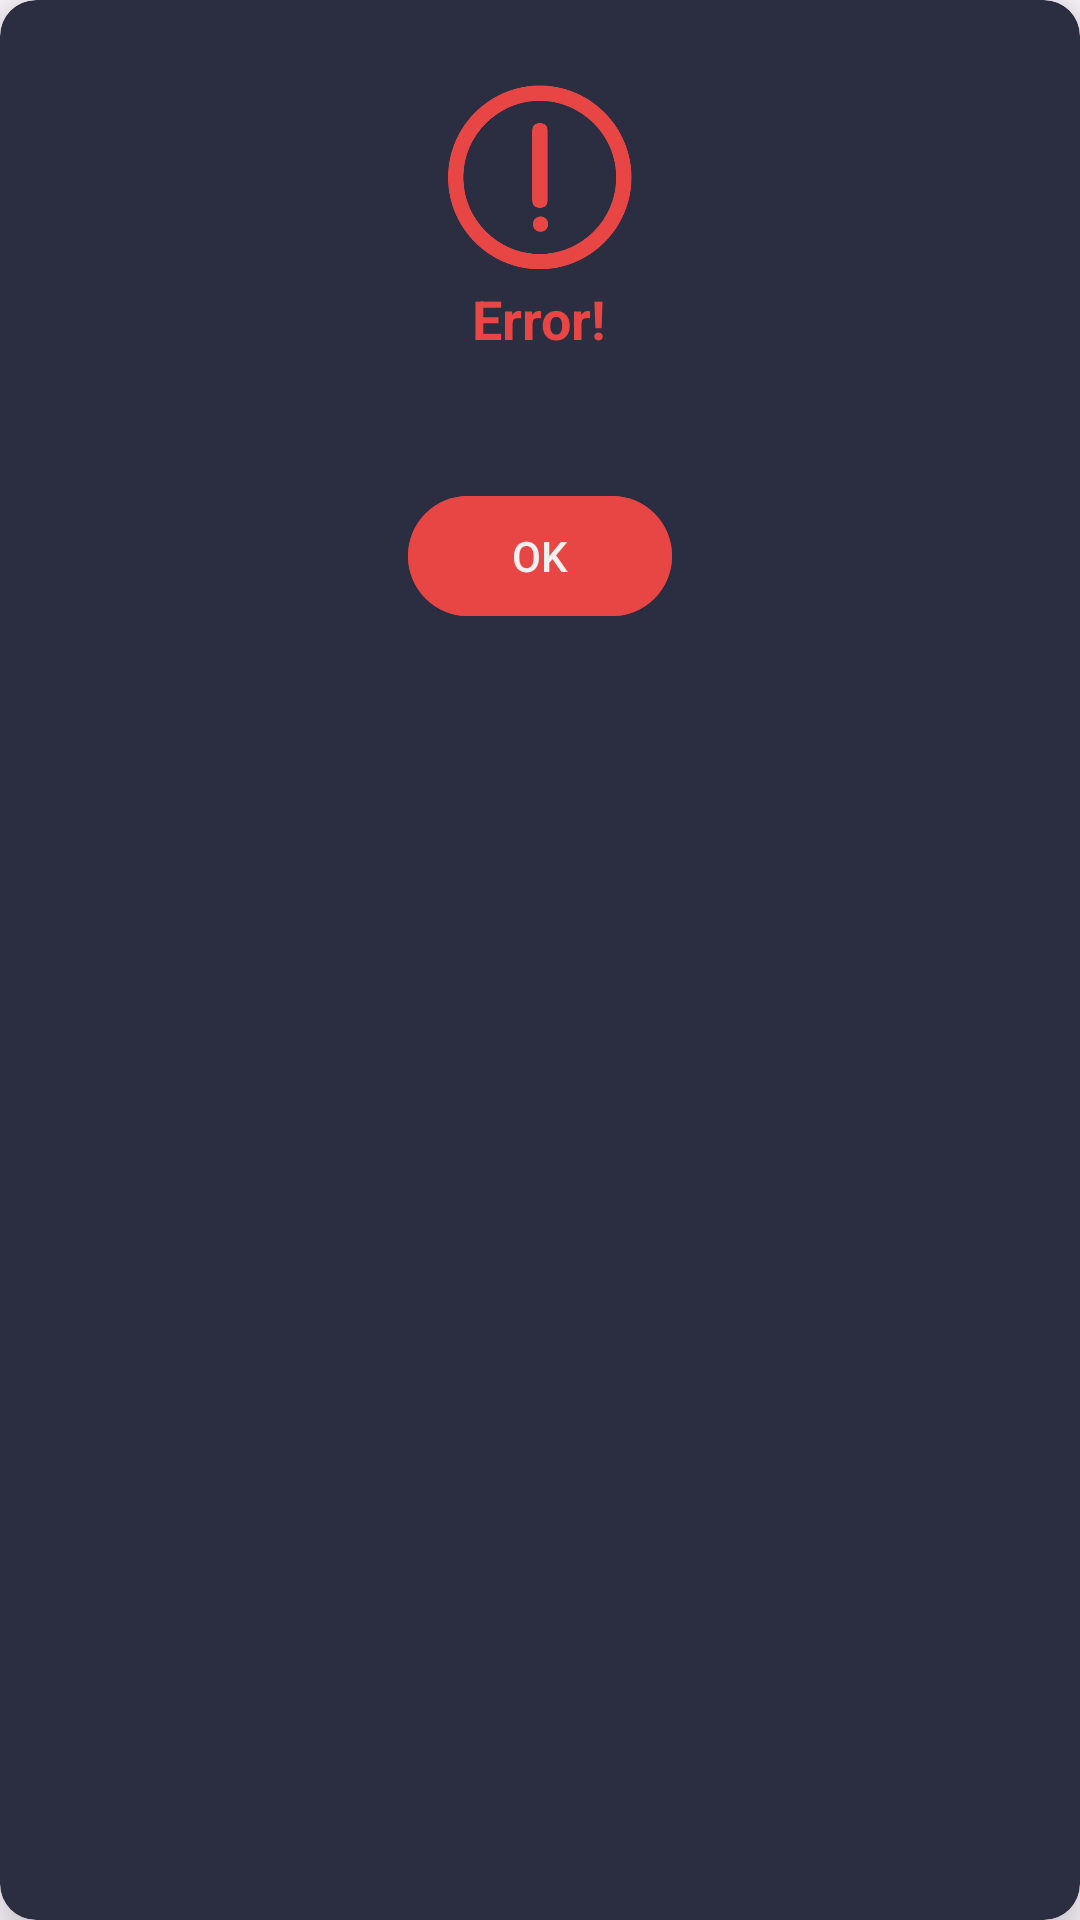

Where to tap for icons on this 1080*1920 app screen, as [x,y]:
warning: [540,177]
